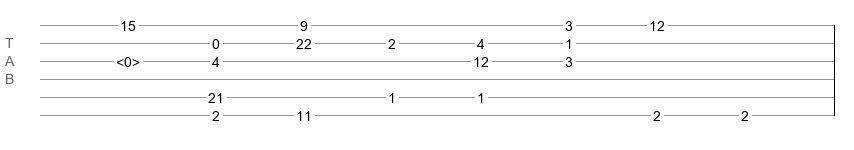0: (212, 36, 220, 46)
1: (388, 90, 396, 100), (477, 90, 485, 100), (565, 36, 573, 46)
11: (296, 108, 312, 118)
12: (473, 54, 489, 64), (649, 18, 665, 28)
15: (120, 18, 136, 28)
2: (212, 108, 220, 118), (388, 36, 396, 46), (653, 108, 661, 118), (741, 108, 749, 118)
21: (208, 90, 224, 100)
22: (296, 36, 312, 46)
3: (565, 18, 573, 28), (565, 54, 573, 64)
4: (212, 54, 220, 64), (477, 36, 485, 46)
9: (300, 18, 308, 28)
harmonic: (116, 54, 140, 64)
